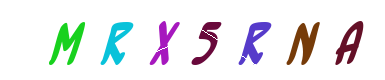5: (149, 0, 229, 80)
A: (252, 0, 332, 80)
M: (28, 0, 108, 80)
N: (214, 0, 294, 80)
R: (76, 0, 156, 80), (188, 0, 268, 80)
X: (124, 0, 204, 80)
